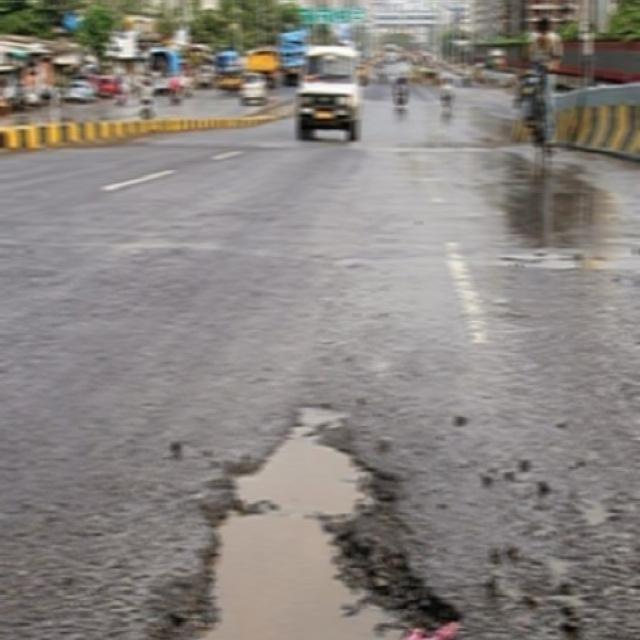Pothole: (146, 380, 517, 640)
